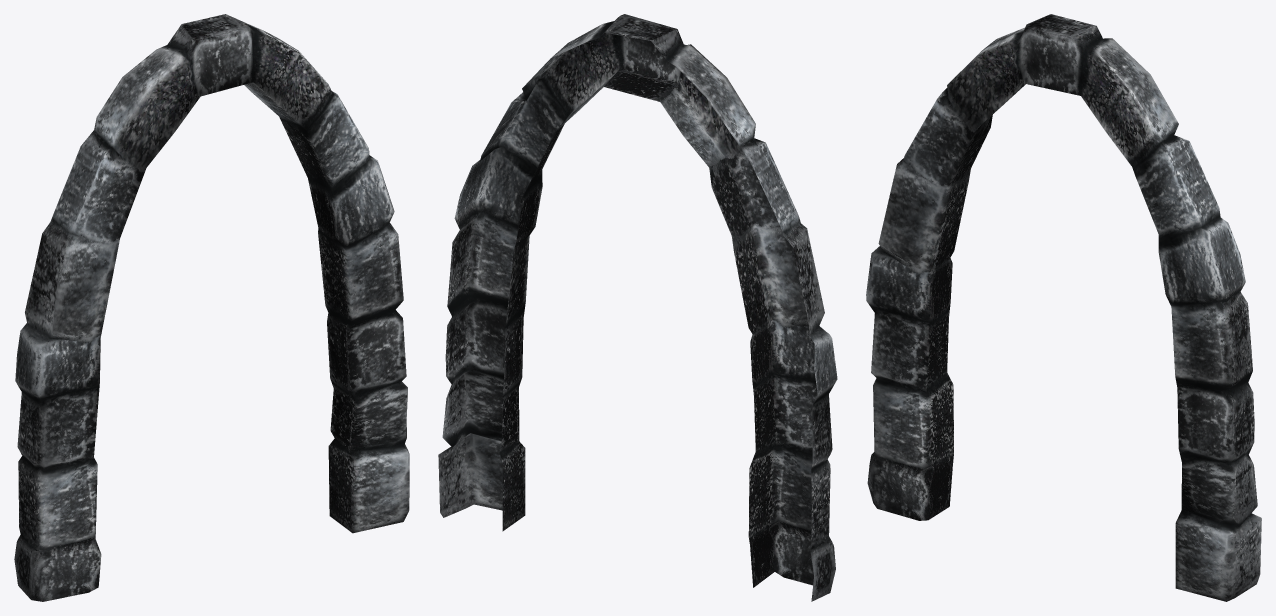
Rendered from Stone Arch Point.FBX.
The picture shows the model from 3 angles, left to right: view 1: azimuth 30°, elevation 25°; view 2: azimuth 150°, elevation 25°; view 3: azimuth 330°, elevation 25°; orthographic projection.
Parts seen in each view (by area): view 1: Stone Arch Point; view 2: Stone Arch Point; view 3: Stone Arch Point.
Part boxes in pixels (bbox=[...]): Stone Arch Point: bbox=[14, 14, 409, 601]; Stone Arch Point: bbox=[438, 14, 837, 601]; Stone Arch Point: bbox=[866, 14, 1261, 601].
Bounding box in the file's own units: 143 × 18.96 × 193.
1 material, 1 textured.
